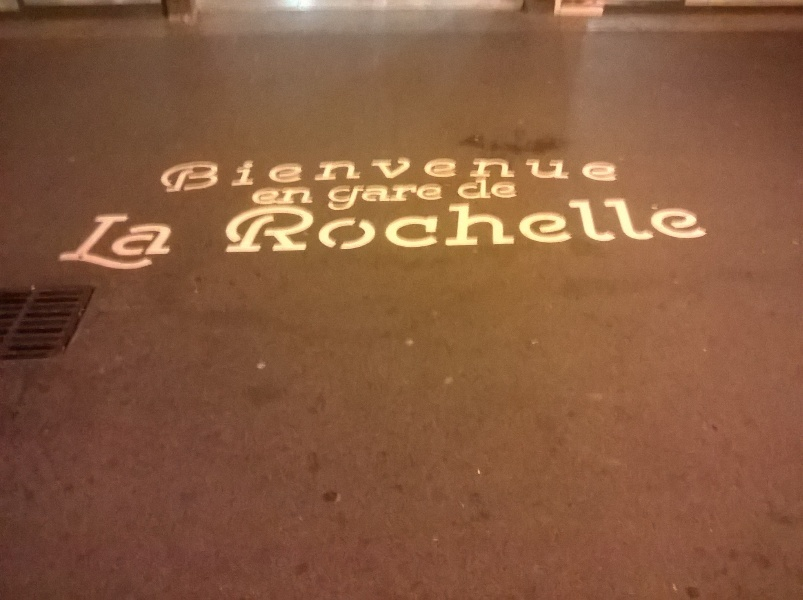text: (97, 214, 112, 276), (113, 214, 128, 276), (129, 214, 144, 276), (145, 214, 160, 276), (161, 214, 176, 276), (225, 197, 240, 253), (241, 197, 256, 253), (257, 197, 272, 253), (273, 197, 288, 253), (289, 197, 304, 253), (305, 197, 320, 253), (321, 197, 336, 253), (337, 197, 352, 253), (353, 197, 368, 253), (369, 197, 384, 253), (385, 197, 400, 253), (401, 197, 416, 253), (417, 197, 432, 253), (433, 197, 448, 253), (449, 197, 464, 253), (465, 197, 480, 253), (481, 197, 496, 253), (497, 197, 512, 253), (513, 197, 528, 253), (529, 197, 544, 253), (545, 197, 560, 253), (561, 197, 576, 253), (577, 197, 592, 253), (593, 197, 608, 253), (609, 197, 624, 253), (625, 197, 640, 253), (641, 197, 656, 253), (657, 197, 672, 253), (673, 197, 688, 253), (689, 197, 704, 253), (161, 150, 176, 195), (177, 150, 192, 195), (193, 150, 208, 195), (209, 150, 224, 195), (225, 150, 240, 195), (241, 150, 256, 195), (257, 150, 272, 195), (273, 150, 288, 195), (289, 150, 304, 195), (305, 150, 320, 195), (321, 150, 336, 195), (337, 150, 352, 195), (353, 150, 368, 195), (369, 150, 384, 195), (385, 150, 400, 195), (401, 150, 416, 195), (417, 150, 432, 195), (433, 150, 448, 195), (449, 150, 464, 195), (465, 150, 480, 195), (481, 150, 496, 195), (497, 150, 512, 195), (513, 150, 528, 195), (529, 150, 544, 195), (545, 150, 560, 195), (561, 150, 576, 195), (577, 150, 592, 195), (593, 150, 608, 195), (609, 150, 621, 195), (337, 184, 352, 213), (353, 184, 368, 213), (369, 184, 384, 213), (385, 184, 400, 213), (401, 184, 416, 213), (417, 184, 432, 213), (465, 179, 480, 201), (481, 179, 496, 201), (497, 179, 512, 201), (433, 184, 444, 213), (326, 184, 336, 213), (257, 187, 272, 206), (273, 187, 288, 206), (289, 187, 304, 206), (705, 197, 709, 253), (177, 214, 180, 276), (305, 187, 314, 206), (458, 179, 464, 201), (513, 179, 518, 201), (95, 214, 96, 276), (253, 187, 256, 206)
